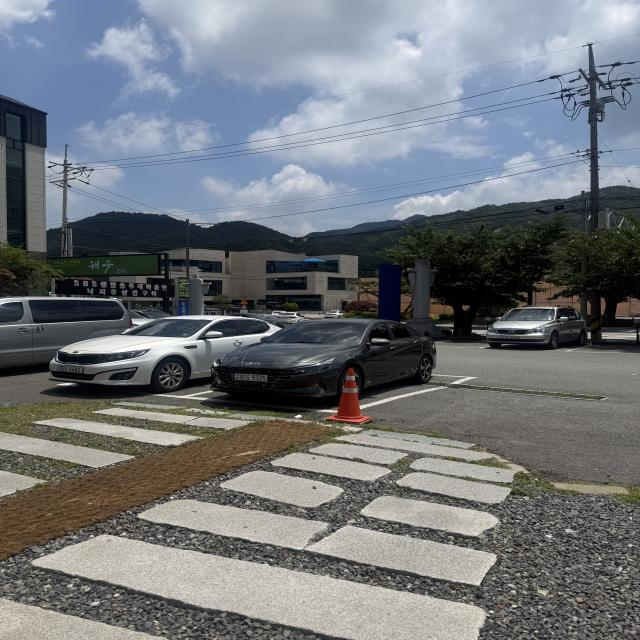car: (218, 312, 450, 408), (49, 314, 286, 392), (0, 289, 145, 373), (485, 305, 583, 349)
